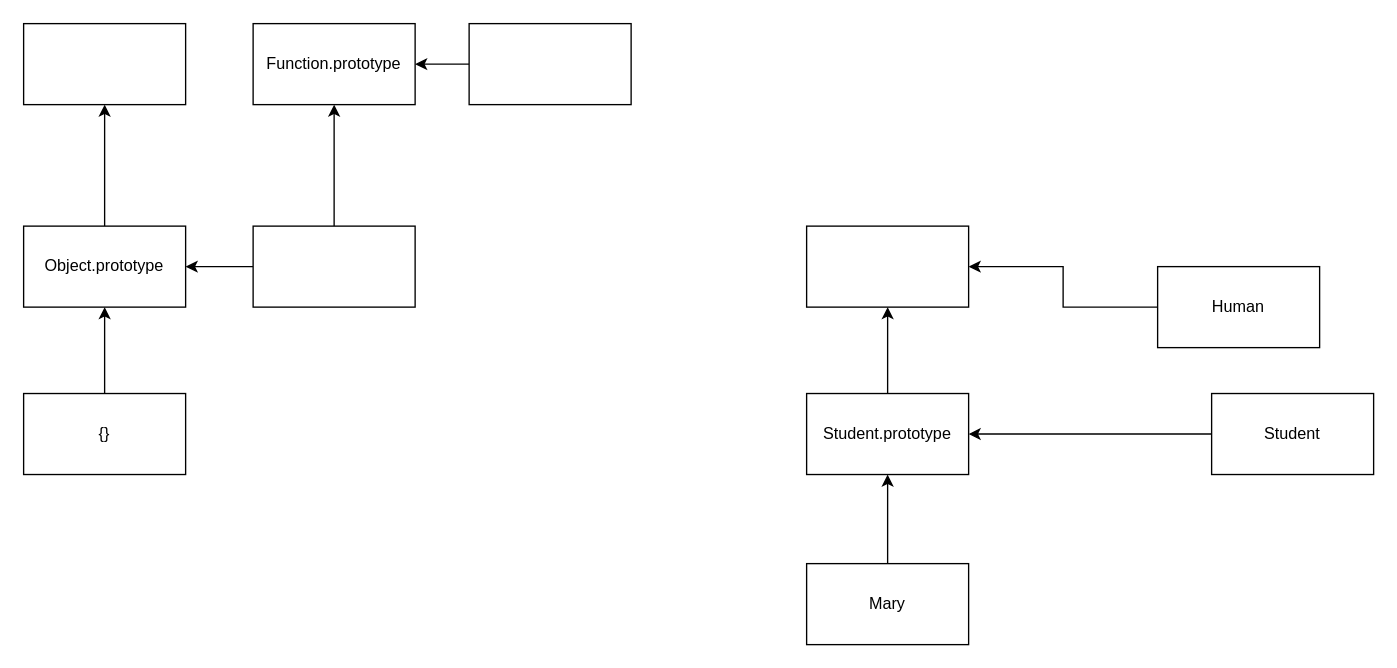
The diagram is 1397 pixels wide and 668 high, and some of its shapes have lost their labels. Here are the shapes that lost their labels. From the top down, the centre of each, then its label:
At pixel 104 63: "Null".
At pixel 549 63: "Function".
At pixel 333 266: "Object".
At pixel 887 266: "Human.prototype".
